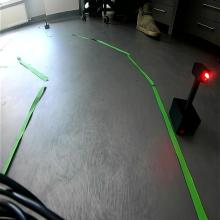red: (192, 60, 212, 83)
